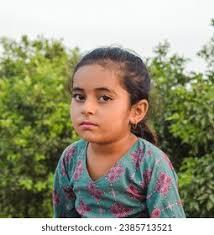Human: (48, 49, 190, 226)
